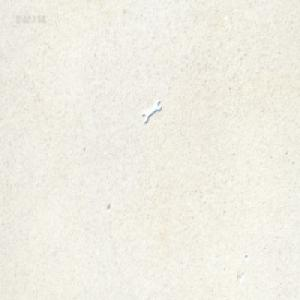Wrench: (141, 100, 162, 123)
